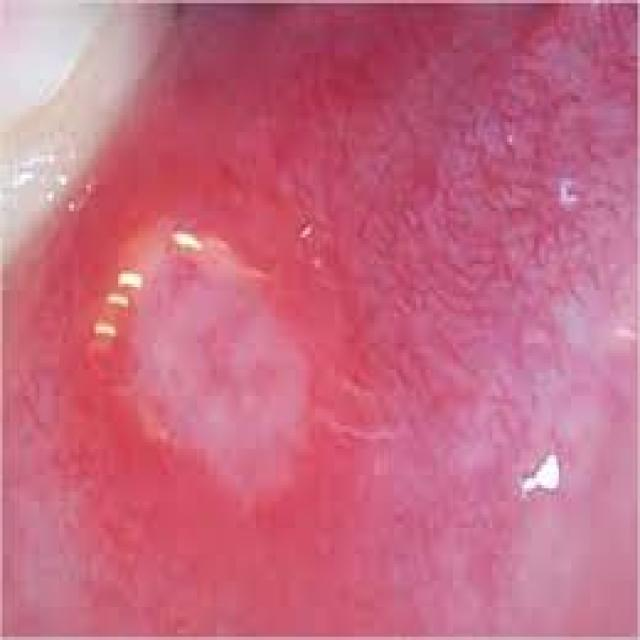processing_area: (0, 0, 638, 637)
ulcer-detection: (79, 180, 349, 537)
